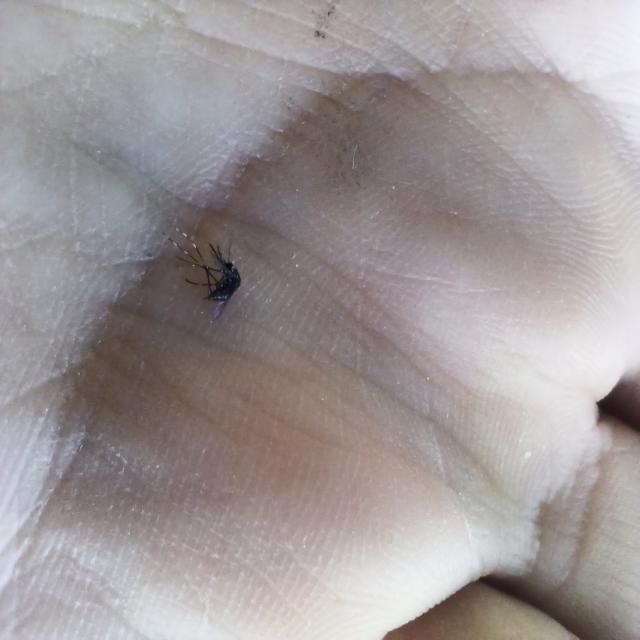albopictus: (160, 218, 248, 323)
